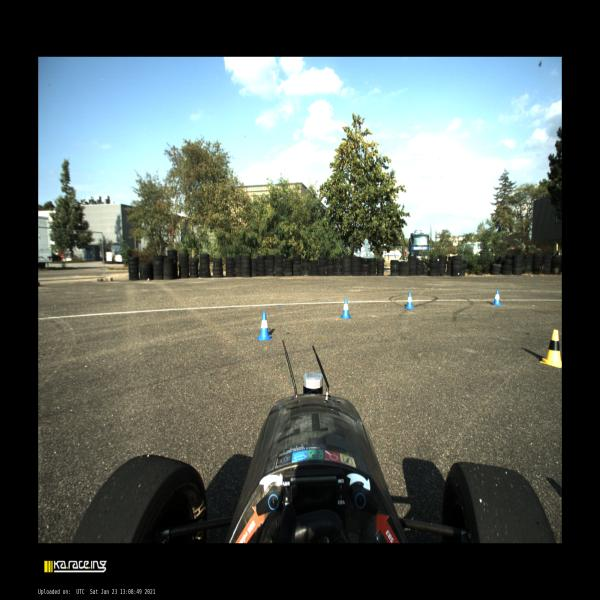blue_cone: (257, 312, 272, 340), (339, 298, 352, 319), (405, 292, 414, 309), (493, 290, 501, 306)
yellow_cone: (539, 330, 562, 367)
